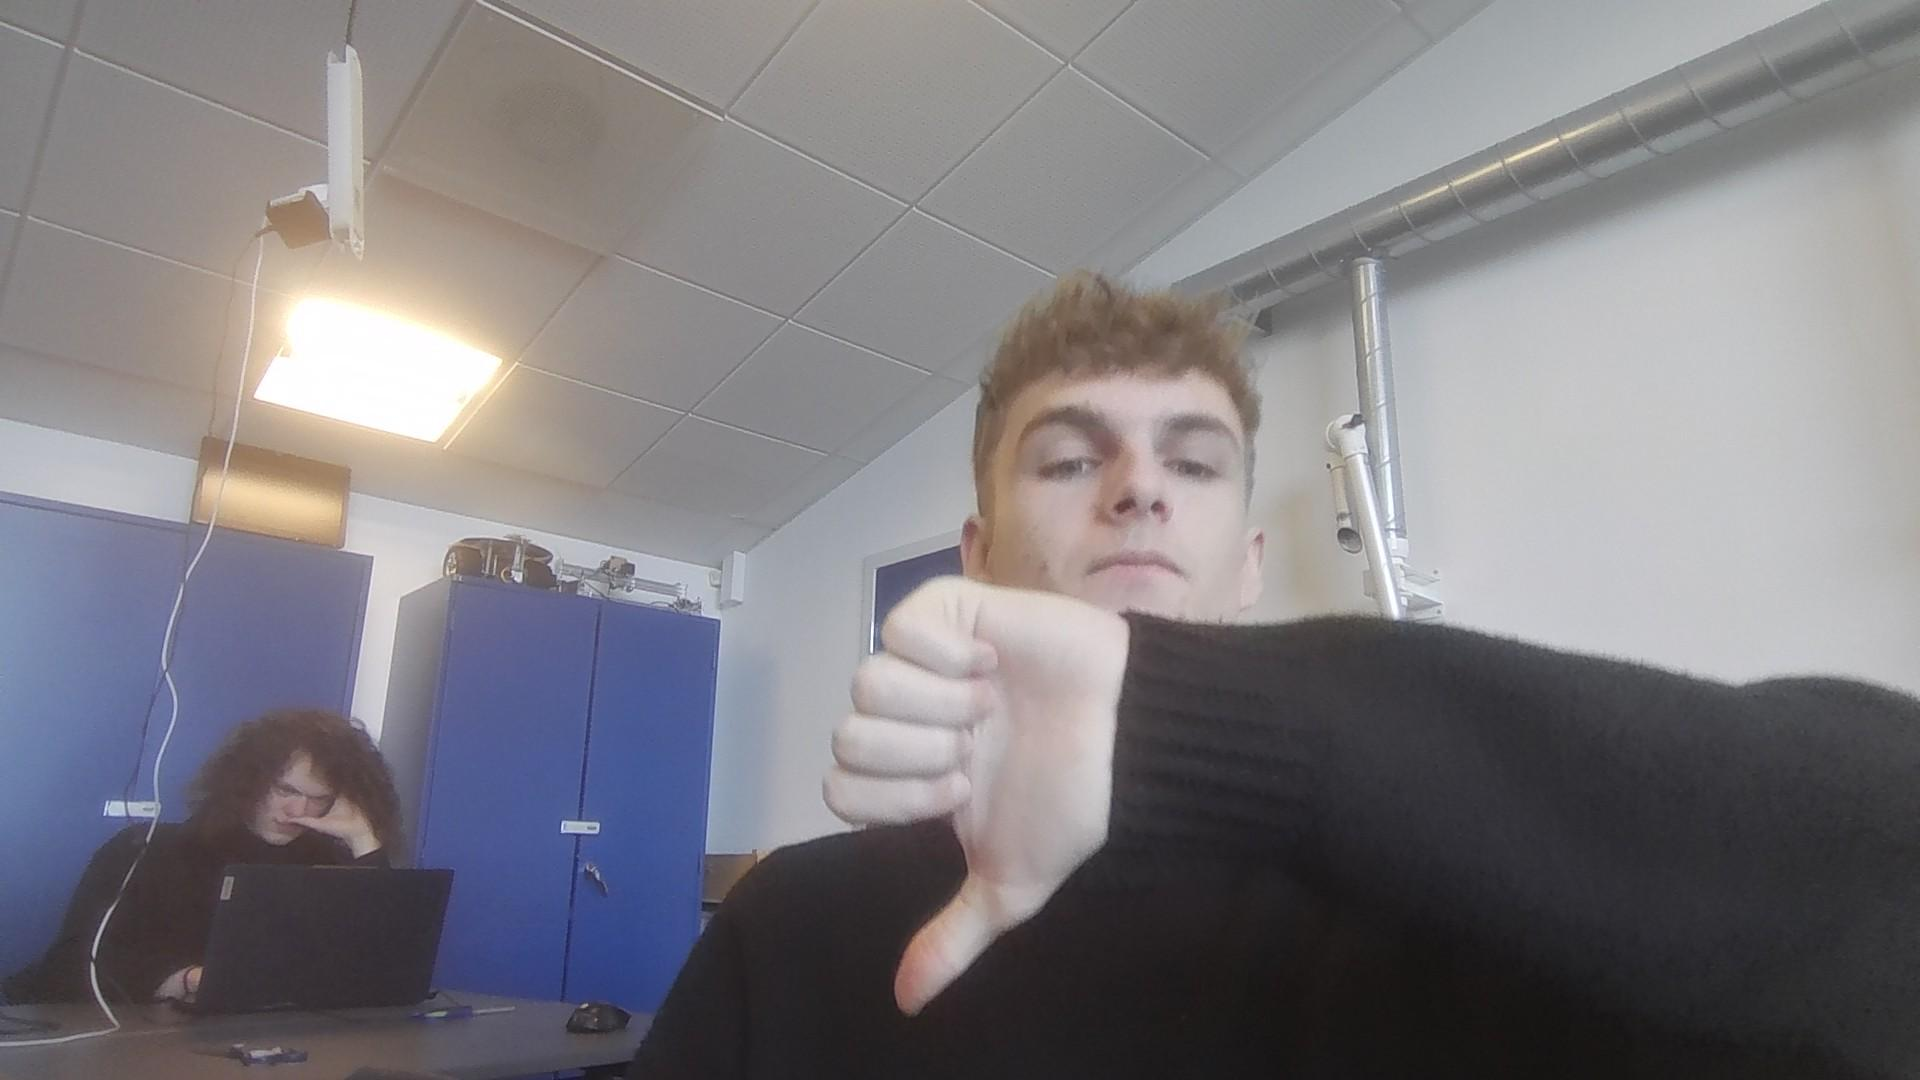thumbs down: (814, 568, 1116, 1019)
